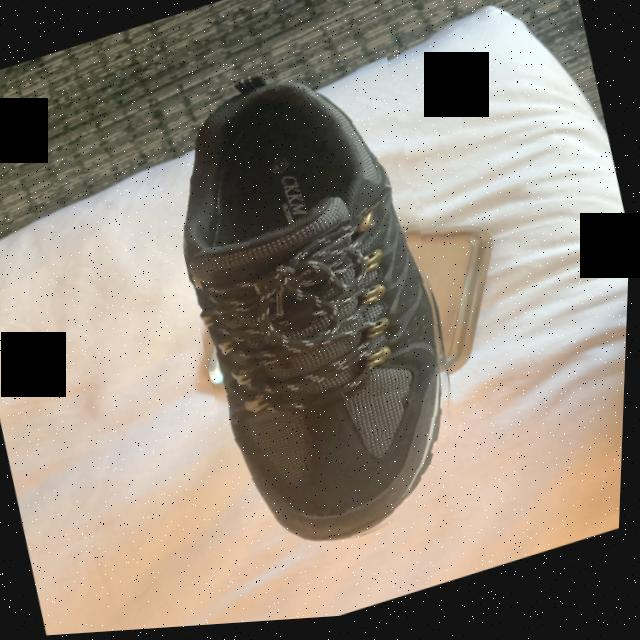shoe: (142, 46, 500, 582)
